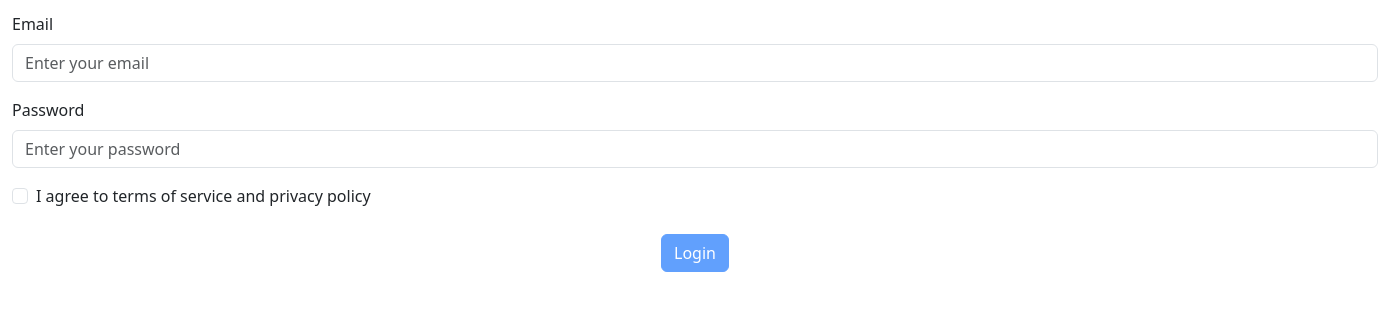
Test: Login Form E2E Testleri › Email ve password doğru ama kurallar kabul edilmezse buton disabled kalır
Type "test@test.com" into the field with test id "email-input".
click(695, 63); type("test@test.com")  # box [12,44,1378,82]
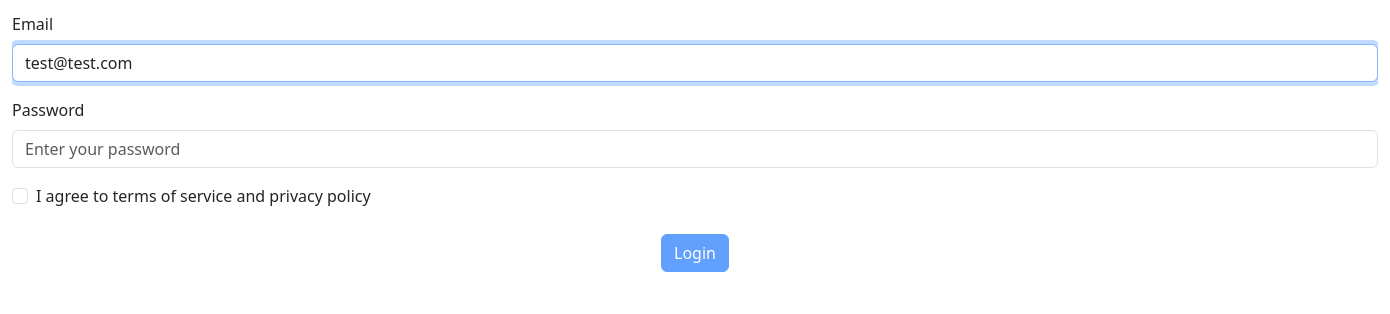
Type "Test1234" into the password field with test id "password-input".
click(695, 149); type("Test1234")  # box [12,130,1378,168]
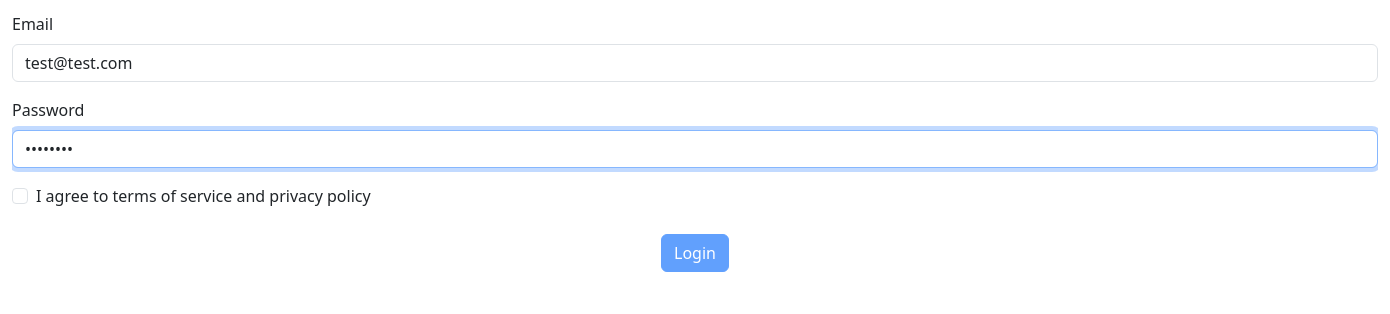
Click the checkbox with test id "terms-checkbox".
click(20, 196)  # box [12,188,28,204]
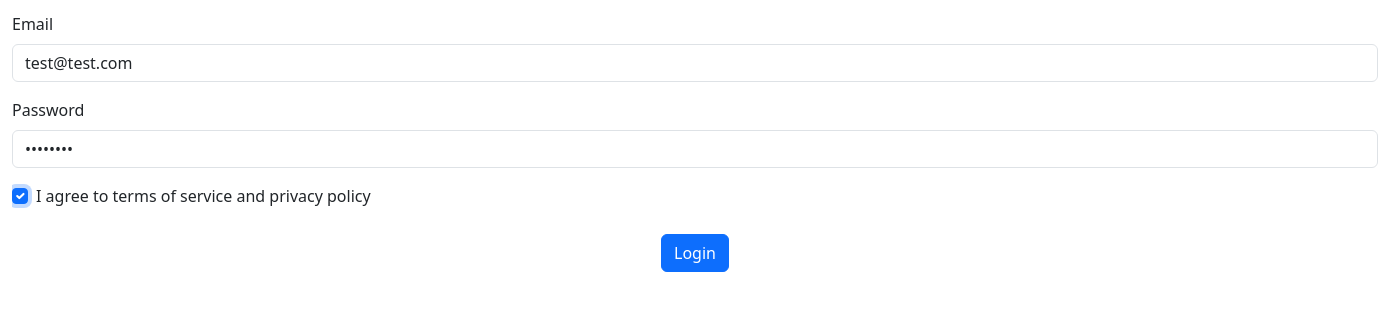
Click the checkbox with test id "terms-checkbox".
click(20, 196)  # box [12,188,28,204]
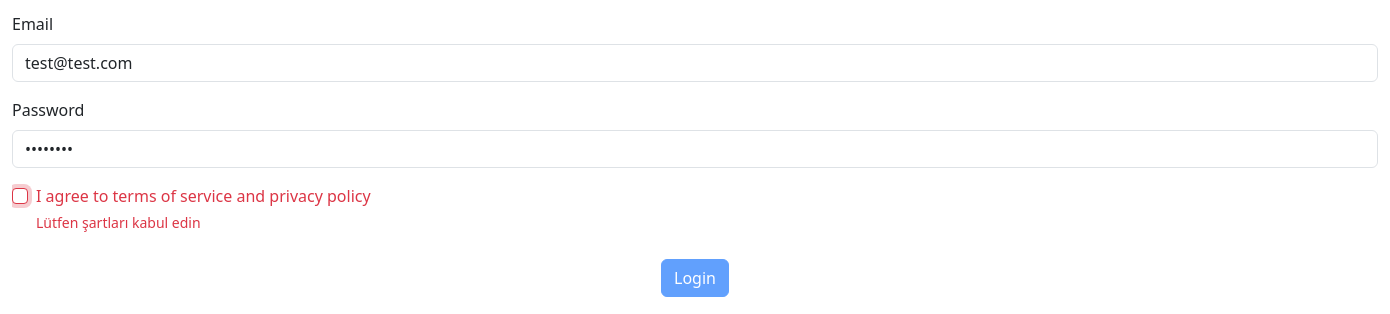
Now the button with test id "submit-btn" is disabled, box [661,259,729,297]
Now the text "Lütfen şartları kabul edin" is shown, box [36,213,201,232]
